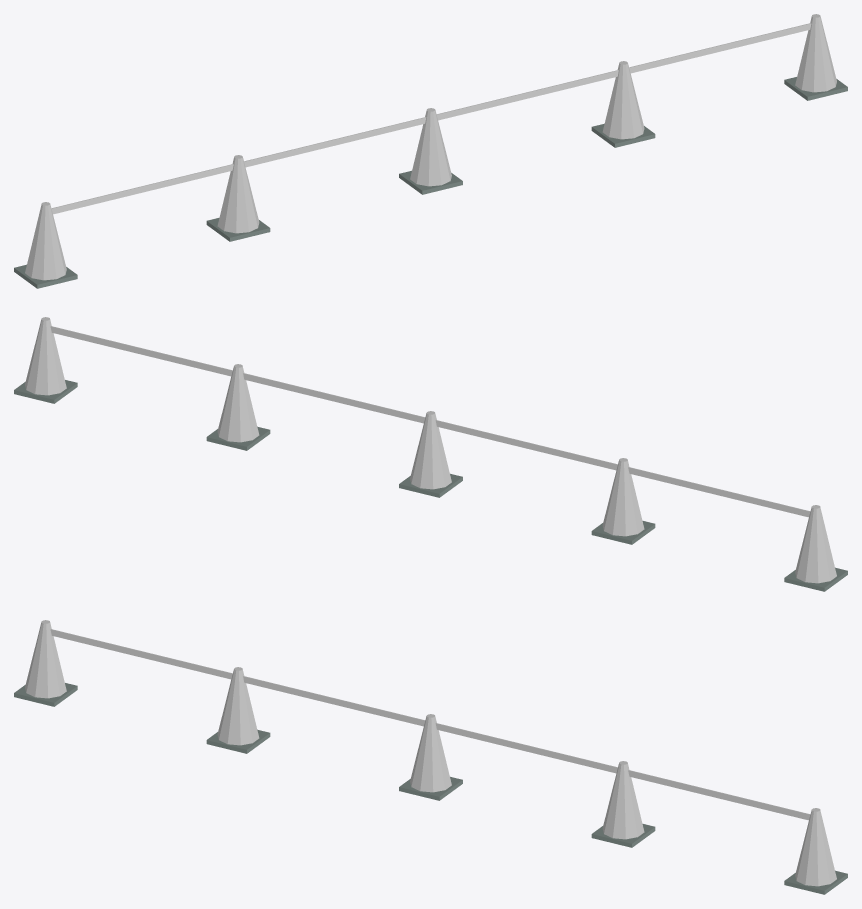
Rendered from SM_Vallas_v3_Conos_LOD0.fbx.
The picture shows the model from 3 angles, top to bottom: view 1: azimuth 30°, elevation 25°; view 2: azimuth 150°, elevation 25°; view 3: azimuth 330°, elevation 25°; orthographic projection.
Parts seen in each view (by area): view 1: SM_ambiente_aerodromo_v23_LOD0; view 2: SM_ambiente_aerodromo_v23_LOD0; view 3: SM_ambiente_aerodromo_v23_LOD0.
Part boxes in pixels (bbox=[...]): SM_ambiente_aerodromo_v23_LOD0: bbox=[14, 14, 847, 288]; SM_ambiente_aerodromo_v23_LOD0: bbox=[14, 317, 847, 591]; SM_ambiente_aerodromo_v23_LOD0: bbox=[14, 620, 847, 894].
Bounding box in the file's own units: 8.42 × 0.71 × 0.42.
